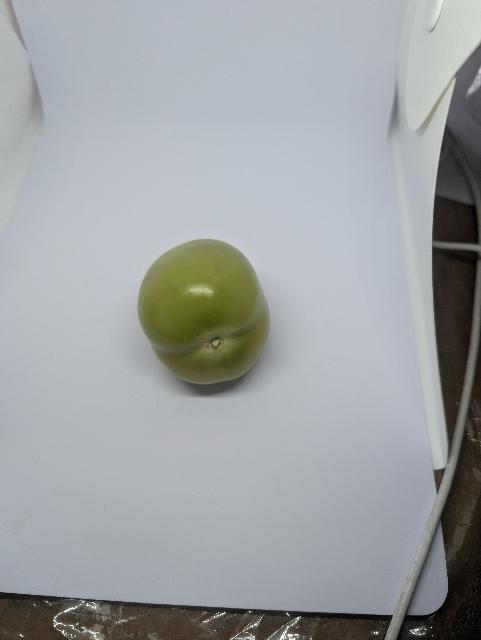green: (128, 234, 279, 394)
